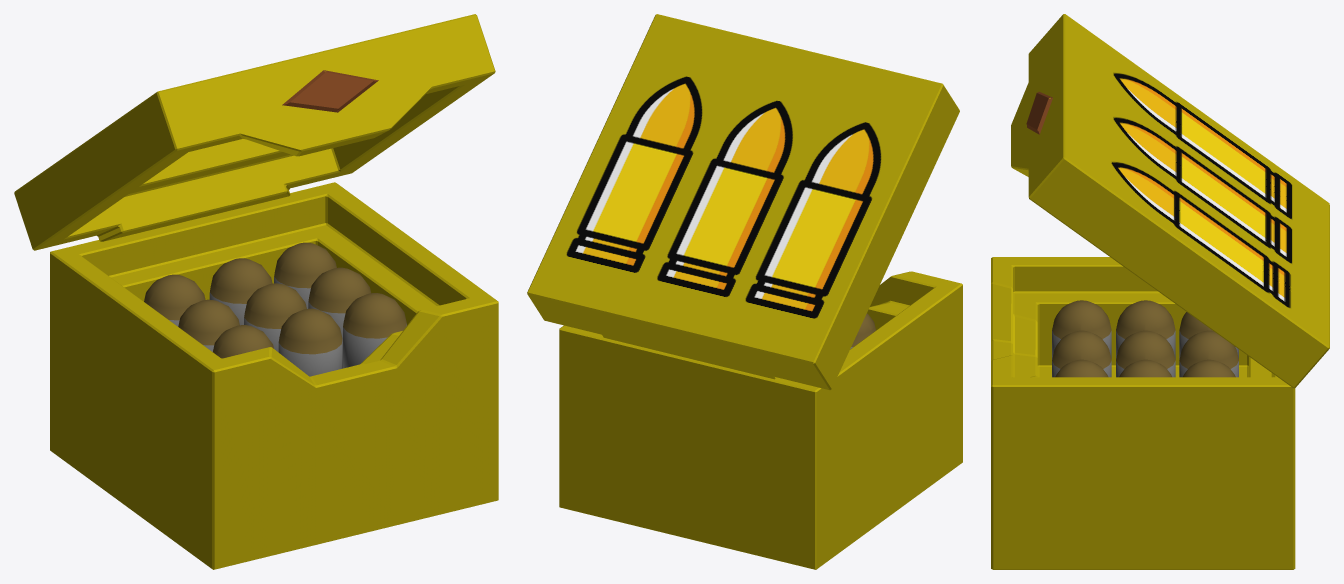
The model's file is Magazine Cartridge.fbx.
3 views of the same model, side by side, from view 1: azimuth 30°, elevation 25°; view 2: azimuth 150°, elevation 25°; view 3: azimuth 270°, elevation 25° (orthographic). The views are drawn at different scales.
Parts seen in each view (by area): view 1: 큐브; view 2: 큐브; view 3: 큐브.
Boxes of the visible parts, bbox=[...] form: 큐브: bbox=[14, 14, 498, 569]; 큐브: bbox=[527, 14, 962, 569]; 큐브: bbox=[991, 14, 1329, 569].
Bounding box in the file's own units: 0.3585 × 0.4855 × 0.3548.
5 materials, 1 textured.
